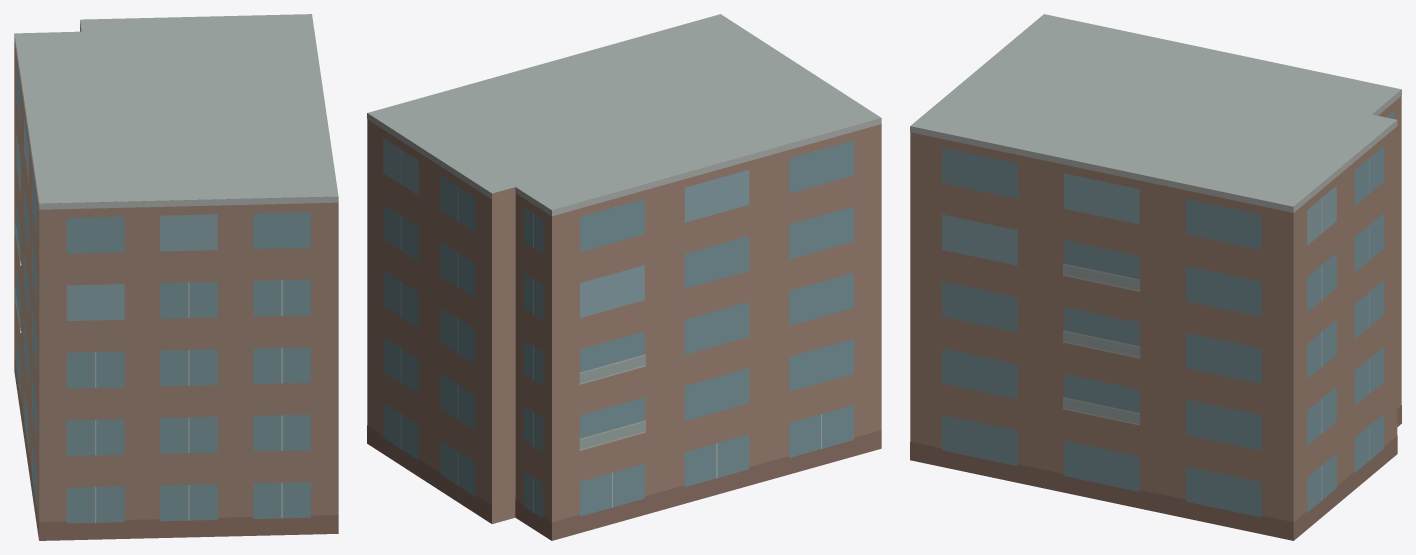
Rendered from survey-upis-32654353.glb.
3 renders of one model, left to right at view 1: azimuth 30°, elevation 25°; view 2: azimuth 150°, elevation 25°; view 3: azimuth 270°, elevation 25°, orthographic. The views are drawn at different scales.
Parts seen in each view (by area): view 1: survey-upis-32654353.tmp; view 2: survey-upis-32654353.tmp; view 3: survey-upis-32654353.tmp.
Boxes of the visible parts, left/top/right/bottom form: survey-upis-32654353.tmp: left=14, top=14, right=338, bottom=540; survey-upis-32654353.tmp: left=367, top=14, right=881, bottom=540; survey-upis-32654353.tmp: left=910, top=14, right=1401, bottom=540.
Bounding box in the file's own units: 16.4 × 13.25 × 17.68.
